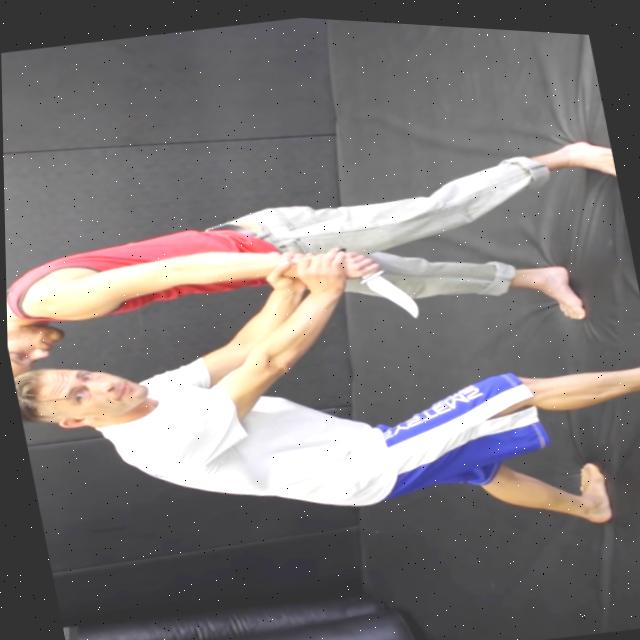knife: (356, 259, 425, 321)
